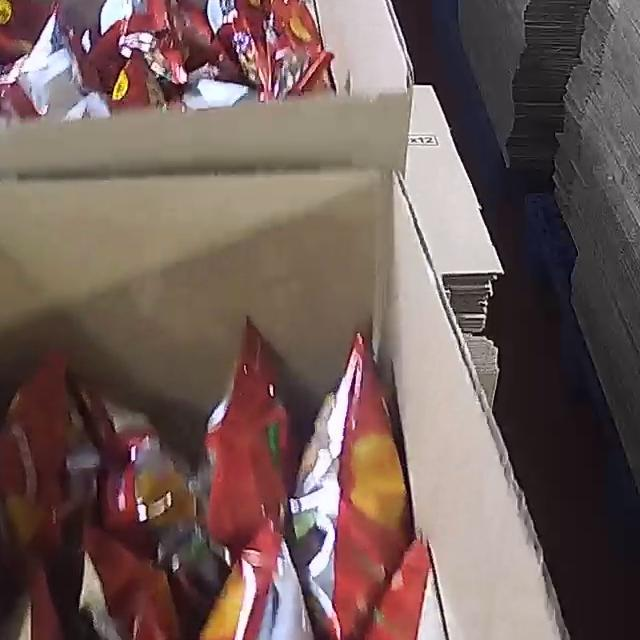masala: (0, 314, 490, 640), (0, 0, 338, 132)
